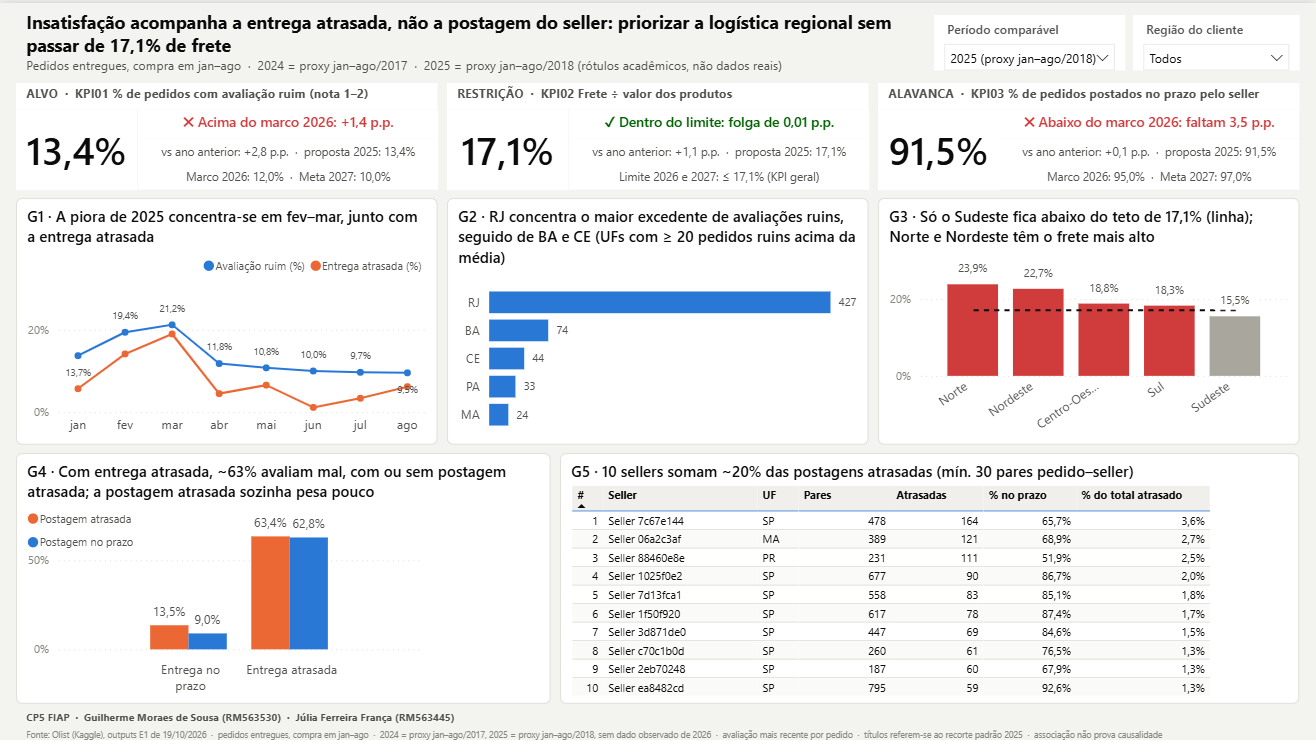

The page's visual inventory and layout, read from the dashboard file:
{"tool":"powerbi","page":{"name":"Dashboard executivo","canvas":[1280,720],"ordinal":0},"visuals":[{"type":"textbox","box":[16,4,880,72],"z":0},{"type":"slicer","fields":{"Values":["Calendário.Período"]},"box":[908,12,186,54],"z":1000},{"type":"slicer","fields":{"Values":["Local Cliente.Região"]},"box":[1102,12,162,54],"z":2000},{"type":"textbox","box":[16,78,410,26],"z":3000},{"type":"card","fields":{"Values":["Medidas.KPI01 % Avaliações Ruins"]},"box":[16,104,118,78],"z":4000},{"type":"card","fields":{"Values":["Medidas.KPI01 Status"]},"box":[134,104,292,28],"z":5000},{"type":"card","fields":{"Values":["Medidas.KPI01 Contexto"]},"box":[134,132,292,25],"z":6000},{"type":"card","fields":{"Values":["Medidas.KPI01 Metas"]},"box":[134,157,292,25],"z":7000},{"type":"textbox","box":[435,78,410,26],"z":8000},{"type":"card","fields":{"Values":["Medidas.KPI02 % Frete sobre Produtos"]},"box":[435,104,118,78],"z":9000},{"type":"card","fields":{"Values":["Medidas.KPI02 Status"]},"box":[553,104,292,28],"z":10000},{"type":"card","fields":{"Values":["Medidas.KPI02 Contexto"]},"box":[553,132,292,25],"z":11000},{"type":"card","fields":{"Values":["Medidas.KPI02 Metas"]},"box":[553,157,292,25],"z":12000},{"type":"textbox","box":[854,78,410,26],"z":13000},{"type":"card","fields":{"Values":["Medidas.KPI03 % Postagem no Prazo"]},"box":[854,104,118,78],"z":14000},{"type":"card","fields":{"Values":["Medidas.KPI03 Status"]},"box":[972,104,292,28],"z":15000},{"type":"card","fields":{"Values":["Medidas.KPI03 Contexto"]},"box":[972,132,292,25],"z":16000},{"type":"card","fields":{"Values":["Medidas.KPI03 Metas"]},"box":[972,157,292,25],"z":17000},{"type":"lineChart","title":"G1 · A piora de 2025 concentra-se em fev–mar, junto com a entrega atrasada","fields":{"Category":["Calendário.Mês"],"Y":["Medidas.KPI01 % Avaliações Ruins","Medidas.% Entrega Atrasada"]},"box":[16,190,410,240],"z":18000},{"type":"clusteredBarChart","title":"G2 · RJ concentra o maior excedente de avaliações ruins, seguido de BA e CE (UFs com ≥ 20 pedidos ruins acima da média)","fields":{"Category":["Local Cliente.UF"],"Y":["Medidas.Pedidos Ruins acima da Média"]},"box":[435,190,410,240],"z":19000},{"type":"lineClusteredColumnComboChart","title":"G3 · Só o Sudeste fica abaixo do teto de 17,1% (linha); Norte e Nordeste têm o frete mais alto","fields":{"Category":["Local Cliente.Região"],"Y":["Medidas.KPI02 % Frete sobre Produtos"],"Y2":["Medidas.Limite Frete KPI02"]},"box":[854,190,410,240],"z":20000},{"type":"clusteredColumnChart","title":"G4 · Com entrega atrasada, ~63% avaliam mal, com ou sem postagem atrasada; a postagem atrasada sozinha pesa pouco","fields":{"Category":["Pedidos.Situação Entrega"],"Series":["Pedidos.Situação Postagem"],"Y":["Medidas.KPI01 % Avaliações Ruins"]},"box":[16,438,520,244],"z":21000},{"type":"tableEx","title":"G5 · 10 sellers somam ~20% das postagens atrasadas (mín. 30 pares pedido–seller)","fields":{"Values":["Medidas.Ranking Seller por Postagens Atrasadas","Sellers.Seller","Sellers.UF Seller","Medidas.Pares Pedido-Seller Elegíveis","Medidas.Postagens Atrasadas","Medidas.% Postagem no Prazo do Seller","Medidas.% Participação nas Postagens Atrasadas"]},"box":[545,438,719,244],"z":22000},{"type":"textbox","box":[16,684,1248,36],"z":23000}]}

Visuals, with their boxes in screenshot pixels (x1, y1, x2, y2), scaled from the page's 1280x720 canvas onto the 1316x740 screenshot:
textbox: box=[16, 4, 921, 78]
slicer - Calendário.Período: box=[934, 12, 1125, 68]
slicer - Local Cliente.Região: box=[1133, 12, 1300, 68]
textbox: box=[16, 80, 438, 107]
card - Medidas.KPI01 % Avaliações Ruins: box=[16, 107, 138, 187]
card - Medidas.KPI01 Status: box=[138, 107, 438, 136]
card - Medidas.KPI01 Contexto: box=[138, 136, 438, 161]
card - Medidas.KPI01 Metas: box=[138, 161, 438, 187]
textbox: box=[447, 80, 869, 107]
card - Medidas.KPI02 % Frete sobre Produtos: box=[447, 107, 569, 187]
card - Medidas.KPI02 Status: box=[569, 107, 869, 136]
card - Medidas.KPI02 Contexto: box=[569, 136, 869, 161]
card - Medidas.KPI02 Metas: box=[569, 161, 869, 187]
textbox: box=[878, 80, 1300, 107]
card - Medidas.KPI03 % Postagem no Prazo: box=[878, 107, 999, 187]
card - Medidas.KPI03 Status: box=[999, 107, 1300, 136]
card - Medidas.KPI03 Contexto: box=[999, 136, 1300, 161]
card - Medidas.KPI03 Metas: box=[999, 161, 1300, 187]
"G1 · A piora de 2025 concentra-se em fev–mar, junto com a entrega atrasada" lineChart: box=[16, 195, 438, 442]
"G2 · RJ concentra o maior excedente de avaliações ruins, seguido de BA e CE (UFs com ≥ 20 pedidos ruins acima da média)" clusteredBarChart: box=[447, 195, 869, 442]
"G3 · Só o Sudeste fica abaixo do teto de 17,1% (linha); Norte e Nordeste têm o frete mais alto" lineClusteredColumnComboChart: box=[878, 195, 1300, 442]
"G4 · Com entrega atrasada, ~63% avaliam mal, com ou sem postagem atrasada; a postagem atrasada sozinha pesa pouco" clusteredColumnChart: box=[16, 450, 551, 701]
"G5 · 10 sellers somam ~20% das postagens atrasadas (mín. 30 pares pedido–seller)" tableEx: box=[560, 450, 1300, 701]
textbox: box=[16, 703, 1300, 739]
